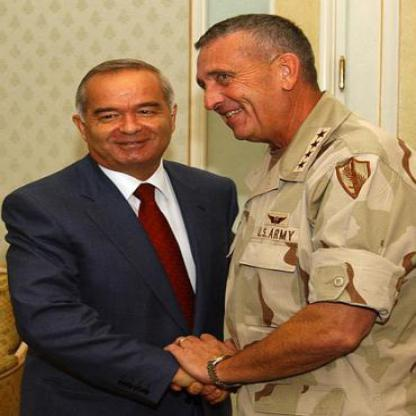face: (192, 28, 282, 145), (83, 61, 175, 168)
